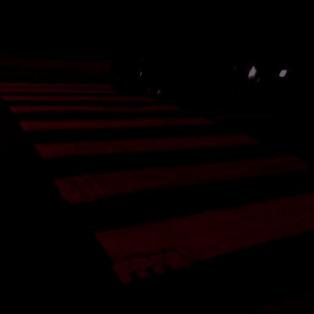Paso de Cebra: (15, 114, 270, 162)
